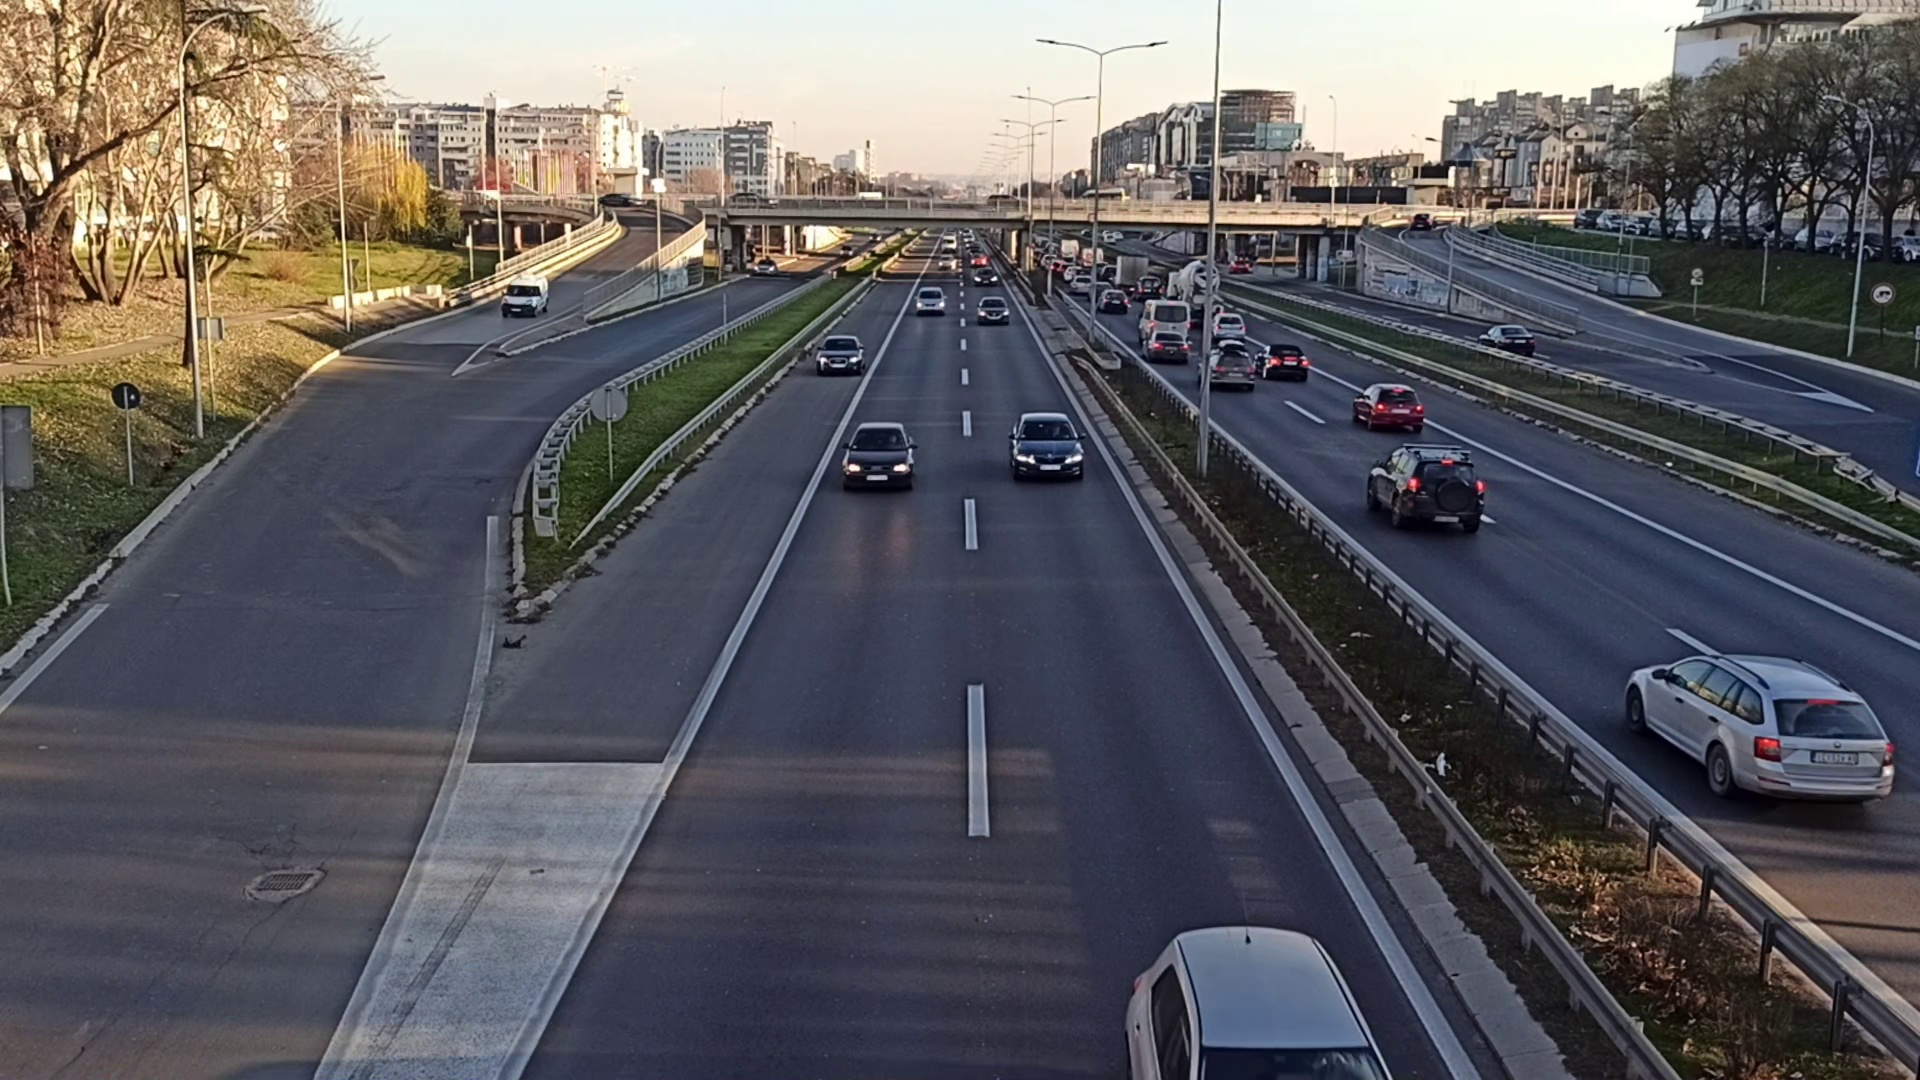car: (1626, 649, 1895, 811), (1369, 444, 1484, 539), (1010, 411, 1084, 479), (843, 422, 915, 488), (1354, 381, 1422, 433), (1474, 323, 1534, 357), (1254, 342, 1307, 378), (818, 334, 860, 375), (1146, 330, 1187, 359), (915, 286, 945, 316), (977, 295, 1009, 324)
van: (498, 274, 549, 316)
